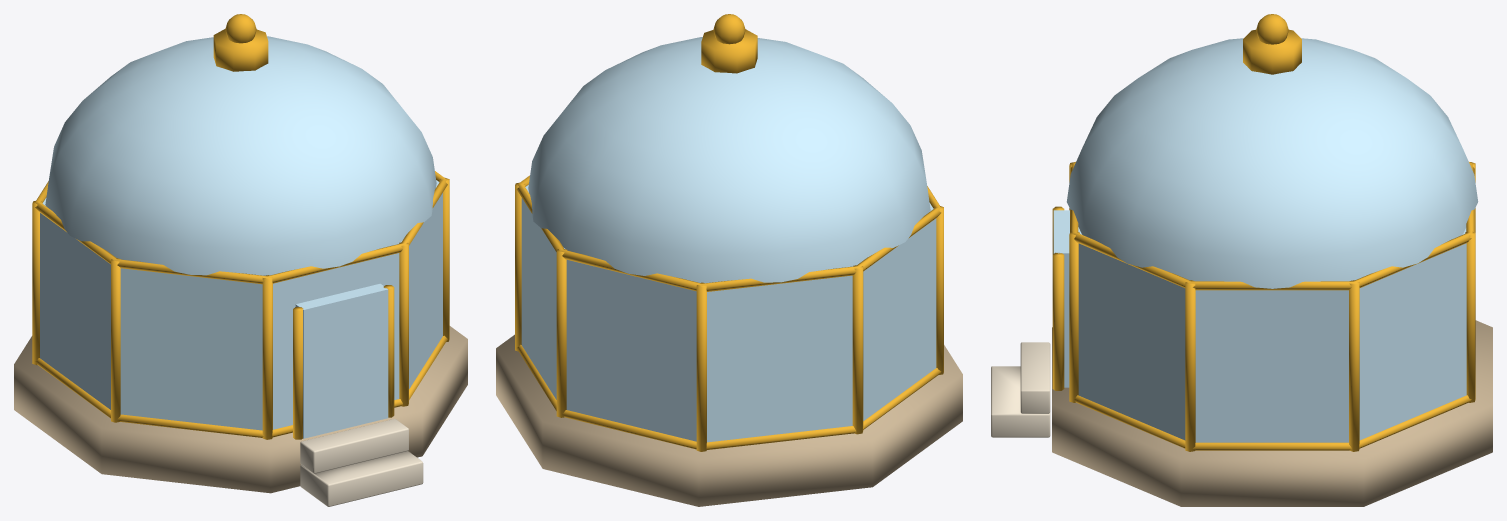
Rendered from sera_3.glb.
3 renders of one model, left to right at view 1: azimuth 30°, elevation 25°; view 2: azimuth 150°, elevation 25°; view 3: azimuth 270°, elevation 25°, orthographic. The views are drawn at different scales.
Visible parts, largest first — view 1: Sera.001; view 2: Sera.001; view 3: Sera.001.
Part boxes in pixels (x1,y1,x2,y2): Sera.001: (14, 14, 467, 506); Sera.001: (496, 14, 962, 506); Sera.001: (991, 14, 1492, 506).
Bounding box in the file's own units: 2.68 × 2.67 × 3.05.
